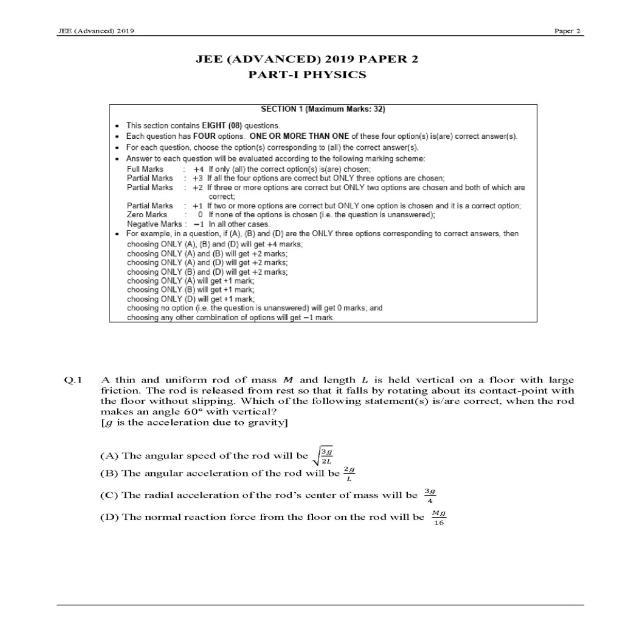Answer_Block: (47, 442, 598, 600)
Instruction: (47, 48, 598, 327)
Question_Answer_Block: (47, 360, 598, 600)
Question_Block: (47, 360, 598, 442)
Question_Paper_Area: (47, 48, 598, 600)
